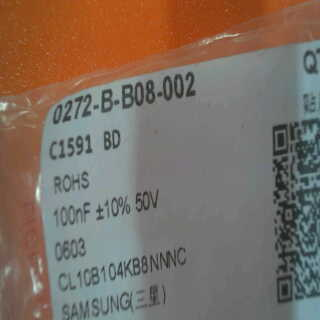100nF: (50, 198, 93, 233)
